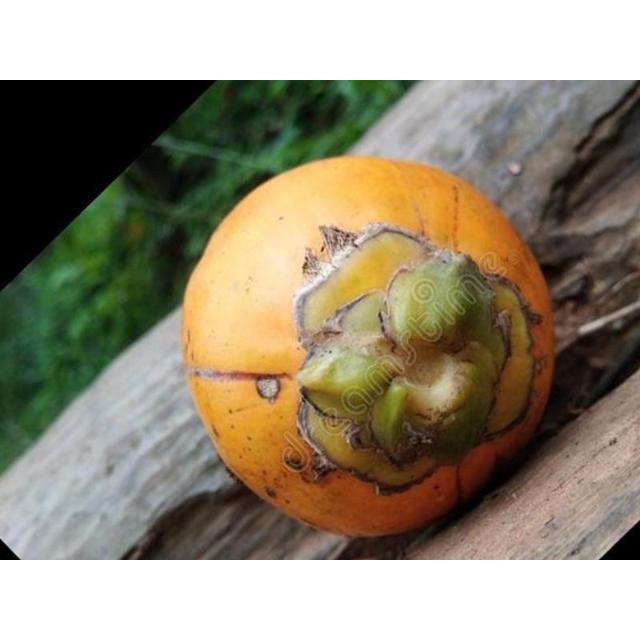good: (180, 156, 556, 542)
